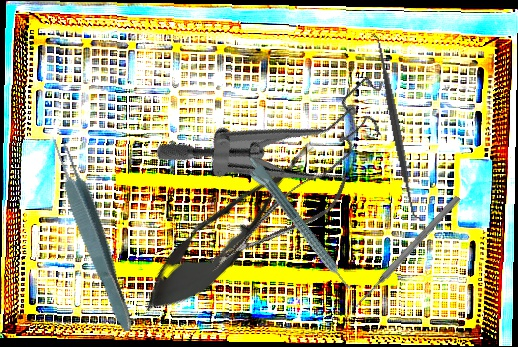Handpiece: (239, 153, 355, 298)
Micro Scissor: (129, 125, 331, 331), (195, 161, 359, 280)
Pusher: (352, 193, 462, 311)
Spatula Surgical: (367, 30, 426, 225)
Speculum: (150, 9, 413, 255)
Tissue Forceps: (45, 130, 141, 336)
